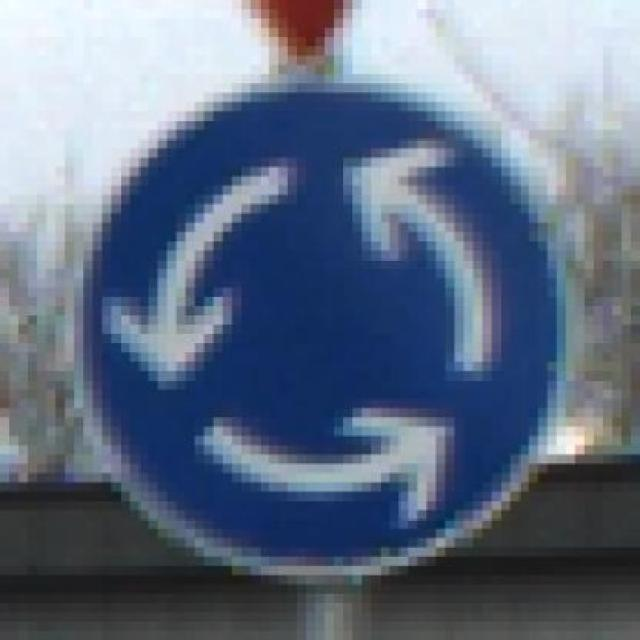Round-About: (65, 65, 603, 603)
